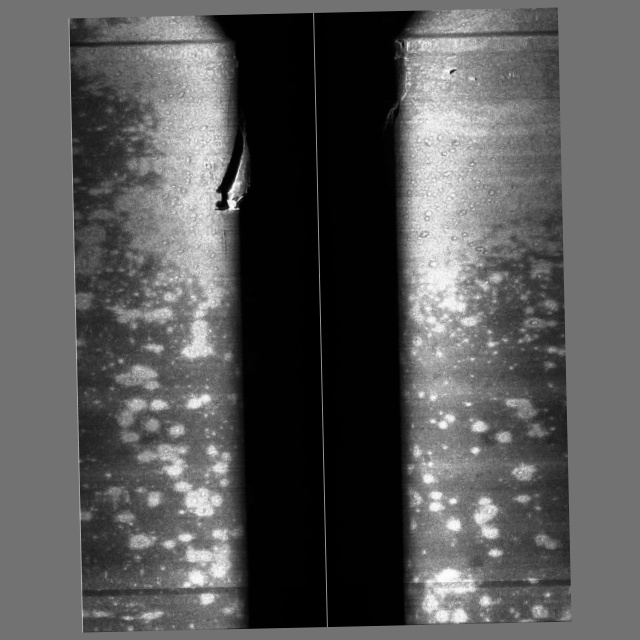Shipwreck: (220, 35, 519, 216)
